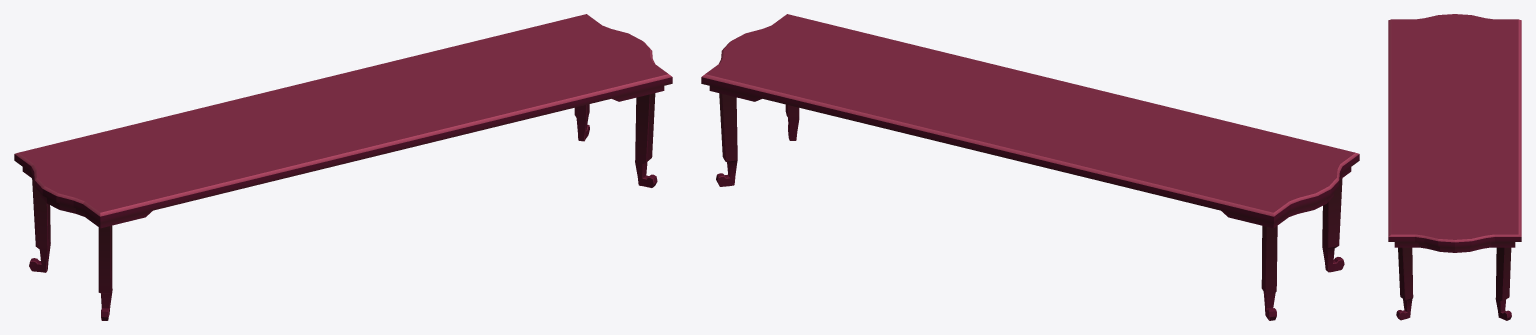
Rendered from diningtable.fbx.
The picture shows the model from 3 angles, left to right: view 1: azimuth 30°, elevation 25°; view 2: azimuth 150°, elevation 25°; view 3: azimuth 270°, elevation 25°; orthographic projection. The views are drawn at different scales.
Visible parts, largest first — view 1: diningtable; view 2: diningtable; view 3: diningtable.
Part boxes in pixels (x1,y1,x2,y2): diningtable: [14, 14, 672, 320]; diningtable: [701, 14, 1359, 320]; diningtable: [1388, 14, 1521, 320].
Bounding box in the file's own units: 3.17 × 0.5771 × 0.783.
Materials: 1 (1 with a texture image).
